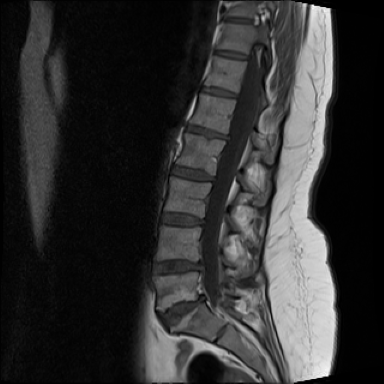Lumbar Disc Bulge (LDB): (155, 290, 212, 337), (152, 257, 211, 279), (182, 122, 234, 146)
Normal IVD: (165, 164, 219, 184), (156, 210, 208, 230), (196, 81, 242, 102), (209, 47, 252, 65)
Spinal Stenosis (SS): (196, 289, 214, 308), (195, 256, 210, 277), (221, 130, 234, 145)
Spondylolisthesis: (140, 287, 230, 348)
